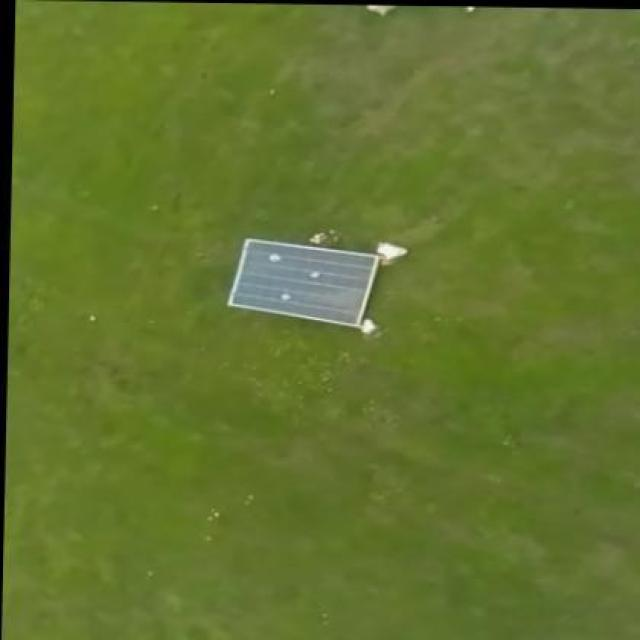soiled: (224, 233, 392, 326)
